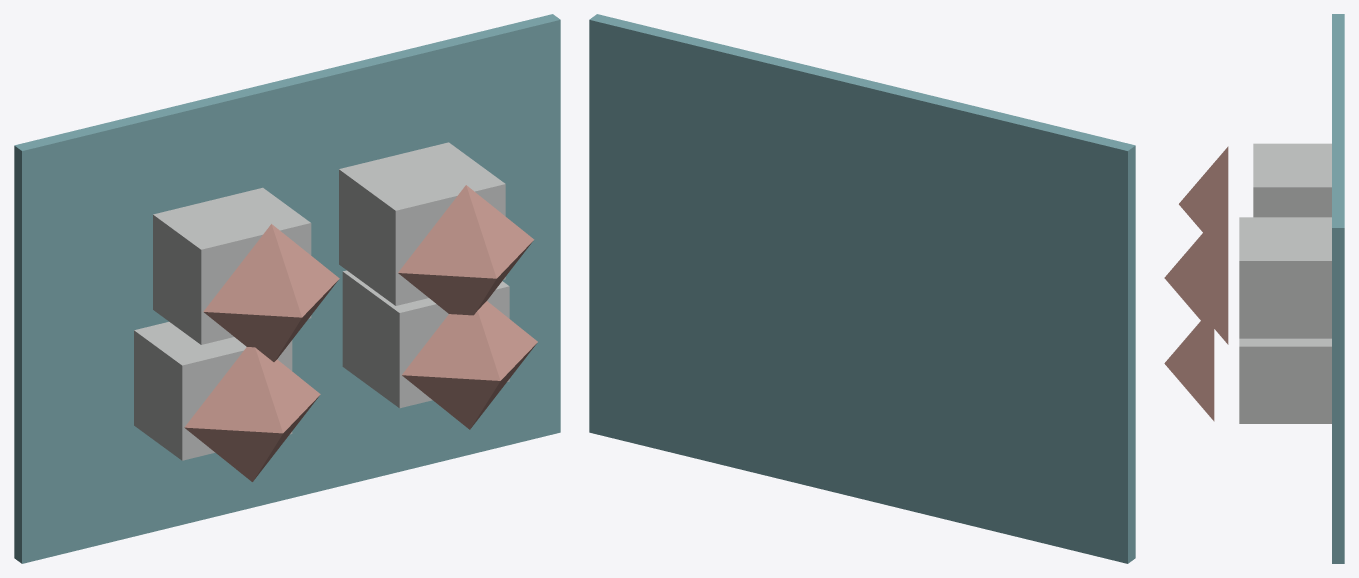
3 renders of one model, left to right at view 1: azimuth 30°, elevation 25°; view 2: azimuth 150°, elevation 25°; view 3: azimuth 270°, elevation 25°, orthographic. The views are drawn at different scales.
Parts seen in each view (by area): view 1: section_00, section_07, section_05, section_01, section_06, section_02, section_08, section_04, section_03; view 2: section_00; view 3: section_07, section_03, section_00, section_05, section_08, section_04, section_06, section_02.
Boxes of the visible parts, x1,y1,x2,y2 form: section_00: (14, 14, 560, 563); section_07: (339, 142, 505, 305); section_05: (153, 187, 311, 344); section_01: (134, 322, 292, 460); section_06: (203, 224, 339, 361); section_02: (184, 347, 320, 481); section_08: (398, 185, 534, 315); section_04: (402, 301, 537, 429); section_03: (342, 270, 509, 408); section_00: (589, 14, 1135, 563); section_07: (1239, 217, 1331, 338); section_03: (1239, 338, 1331, 423); section_00: (1332, 14, 1344, 563); section_05: (1253, 143, 1331, 217); section_08: (1164, 220, 1214, 326); section_04: (1164, 320, 1214, 421); section_06: (1179, 146, 1228, 259); section_02: (1214, 246, 1228, 344).
Bounding box in the file's own units: 7.1 × 5.2 × 2.53.
